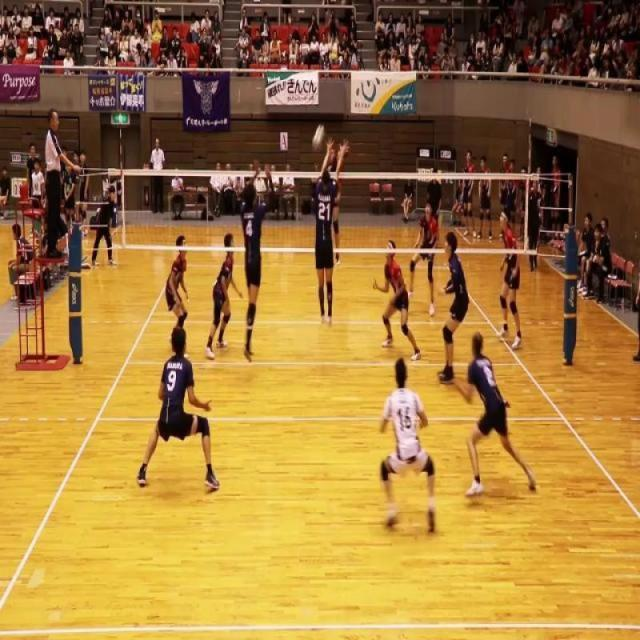volleyball: (311, 122, 326, 152)
